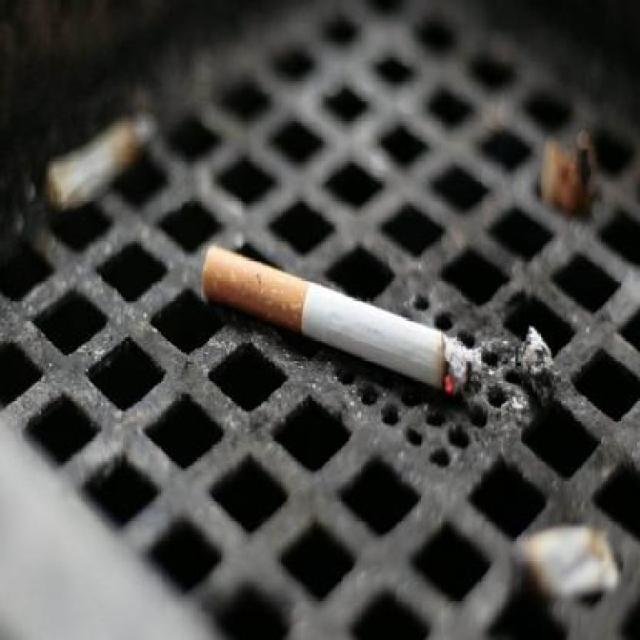trash: (196, 246, 475, 388)
